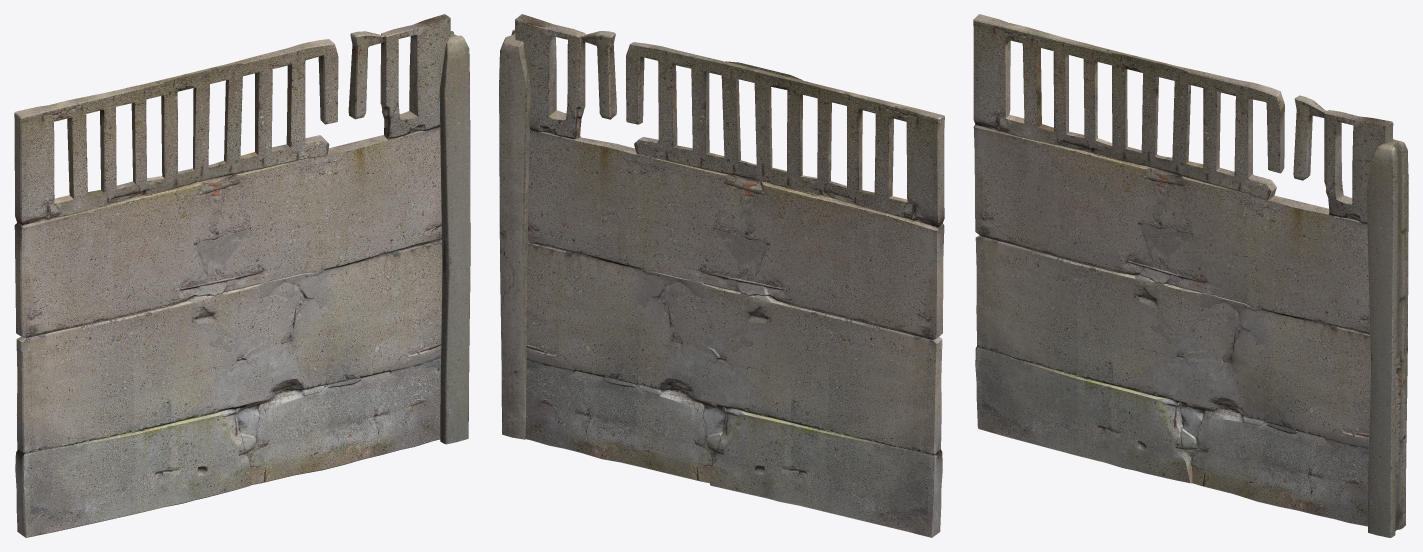
The model's file is sm_ConcreteFence_01_03.fbx.
3 views of the same model, side by side, from view 1: azimuth 30°, elevation 25°; view 2: azimuth 150°, elevation 25°; view 3: azimuth 330°, elevation 25° (orthographic). The views are drawn at different scales.
Parts seen in each view (by area): view 1: sm_ConcreteFence_01_03_LOD0; view 2: sm_ConcreteFence_01_03_LOD0; view 3: sm_ConcreteFence_01_03_LOD0.
Boxes of the visible parts, <box> form: sm_ConcreteFence_01_03_LOD0: <box>14,14,470,537</box>; sm_ConcreteFence_01_03_LOD0: <box>499,14,944,537</box>; sm_ConcreteFence_01_03_LOD0: <box>973,14,1408,537</box>.
Bounding box in the file's own units: 17.32 × 218 × 200.
